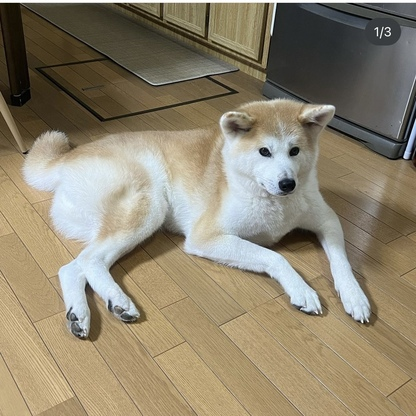akita: (16, 94, 380, 346)
